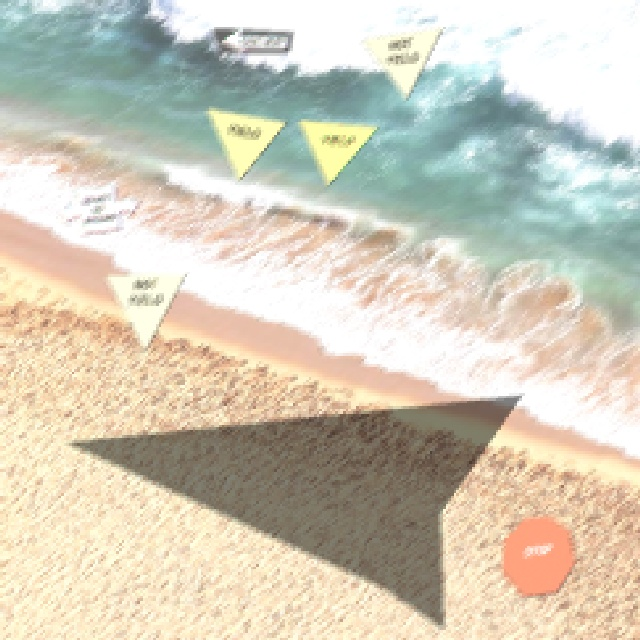DO_NOT_GO_AROUND: (56, 183, 138, 233)
NOT_YIELD: (103, 272, 185, 352), (360, 26, 442, 99)
ONE_WAY_ left: (210, 26, 292, 52)
STOP: (500, 514, 575, 596)
YIELD: (204, 106, 286, 180), (296, 118, 378, 185)
